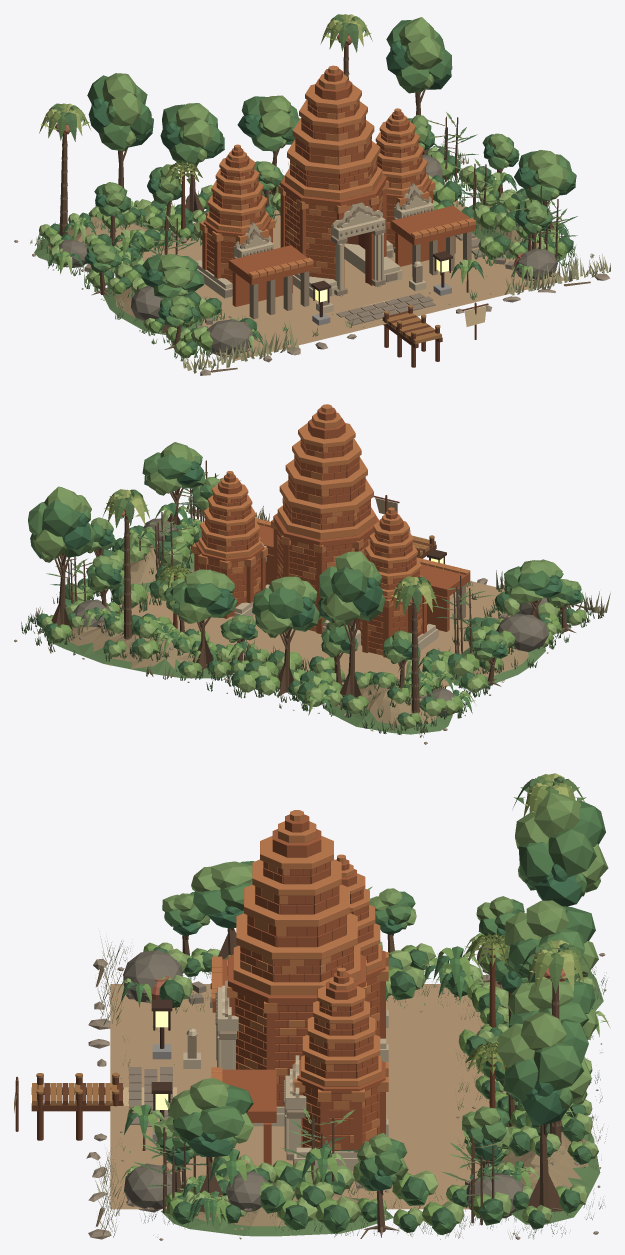
Rendered from chenla.glb.
3 views of the same model, one above another, from view 1: azimuth 30°, elevation 25°; view 2: azimuth 150°, elevation 25°; view 3: azimuth 270°, elevation 25° (orthographic). The views are drawn at different scales.
Parts seen in each view (by area): view 1: chenla; view 2: chenla; view 3: chenla.
Boxes of the visible parts, <box> form: chenla: <box>14,14,610,375</box>; chenla: <box>14,404,610,744</box>; chenla: <box>14,773,610,1240</box>.
Bounding box in the file's own units: 7.77 × 3.95 × 6.72.
